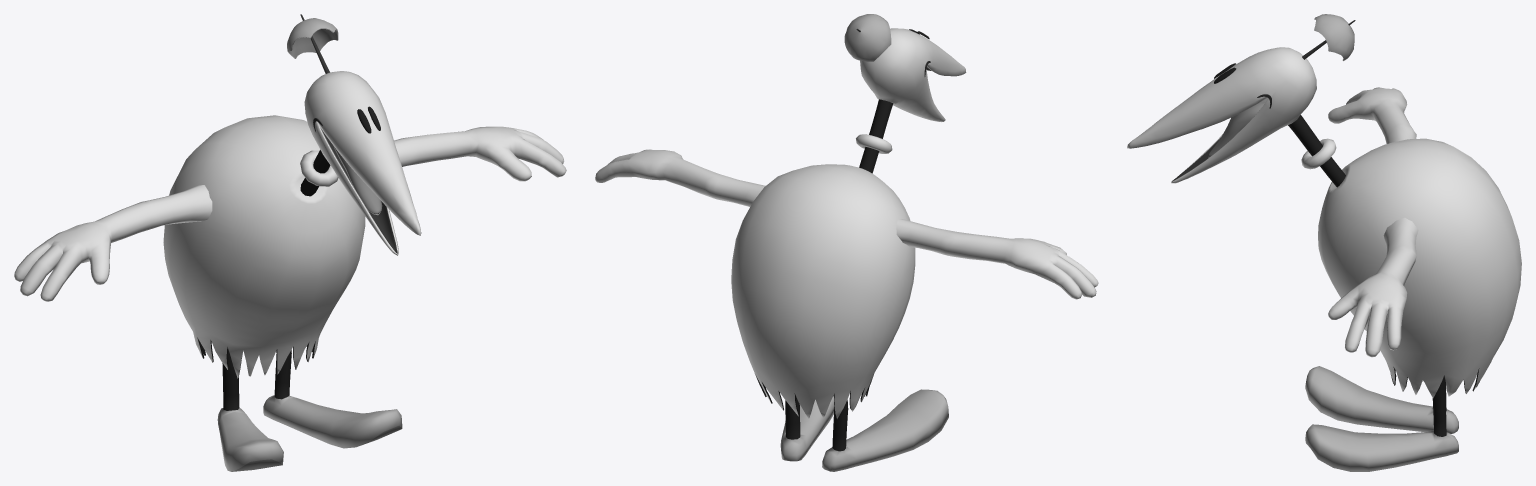
Rendered from dodo.glb.
3 renders of one model, left to right at view 1: azimuth 30°, elevation 25°; view 2: azimuth 150°, elevation 25°; view 3: azimuth 270°, elevation 25°, orthographic. The views are drawn at different scales.
Visible parts, largest first — view 1: Object_2, Object_3, Object_4, Object_5; view 2: Object_2, Object_3, Object_4, Object_5; view 3: Object_2, Object_4, Object_3, Object_5.
Boxes of the visible parts, <box> form: Object_2: <box>163,115,402,471</box>; Object_3: <box>14,126,566,301</box>; Object_4: <box>304,71,421,255</box>; Object_5: <box>287,14,338,73</box>; Object_2: <box>731,99,948,471</box>; Object_3: <box>595,149,1098,299</box>; Object_4: <box>860,28,966,122</box>; Object_5: <box>844,14,891,61</box>; Object_2: <box>1288,115,1521,471</box>; Object_4: <box>1127,47,1316,183</box>; Object_3: <box>1328,87,1418,357</box>; Object_5: <box>1302,14,1355,60</box>.
Bounding box in the file's own units: 1.24 × 0.9722 × 0.8201.
Materials: 5 (5 with a texture image).
